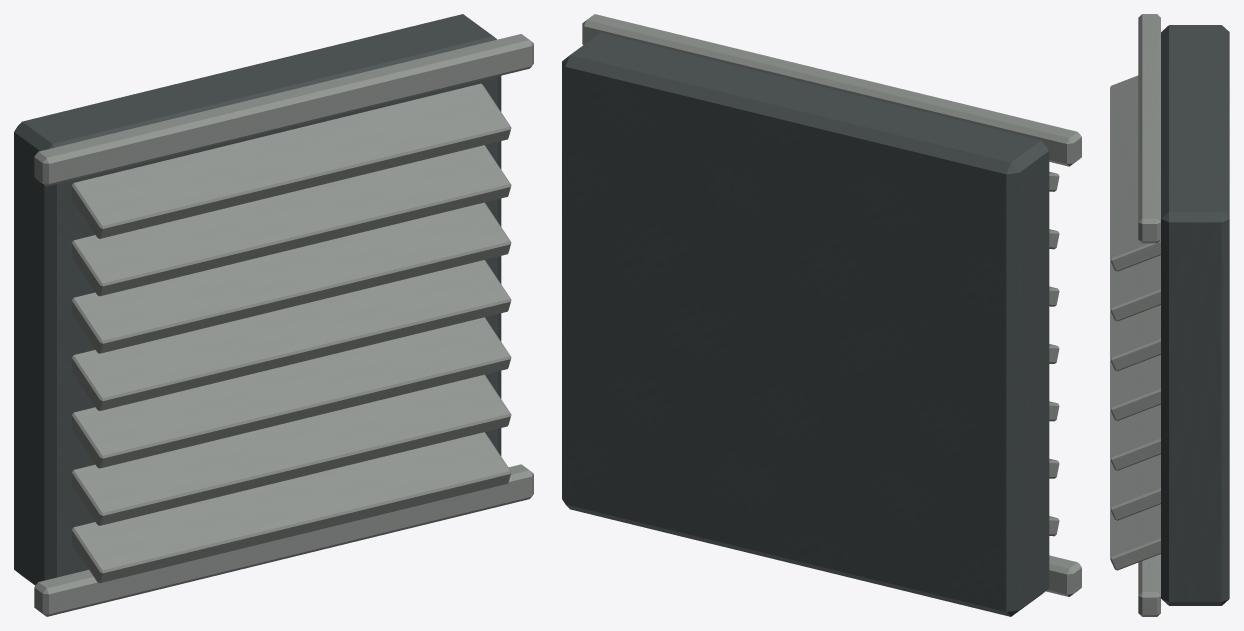
The model's file is D_Vent_Square_visual.glb.
3 views of the same model, side by side, from view 1: azimuth 30°, elevation 25°; view 2: azimuth 150°, elevation 25°; view 3: azimuth 270°, elevation 25° (orthographic). The views are drawn at different scales.
Visible parts, largest first — view 1: D_Vent_Square__VIS; view 2: D_Vent_Square__VIS; view 3: D_Vent_Square__VIS.
Part boxes in pixels (<box>): D_Vent_Square__VIS: <box>14,14,533,616</box>; D_Vent_Square__VIS: <box>562,14,1081,616</box>; D_Vent_Square__VIS: <box>1110,14,1229,616</box>.
Bounding box in the file's own units: 2.15 × 1.92 × 0.5225.
Materials: 1 (1 with a texture image).
